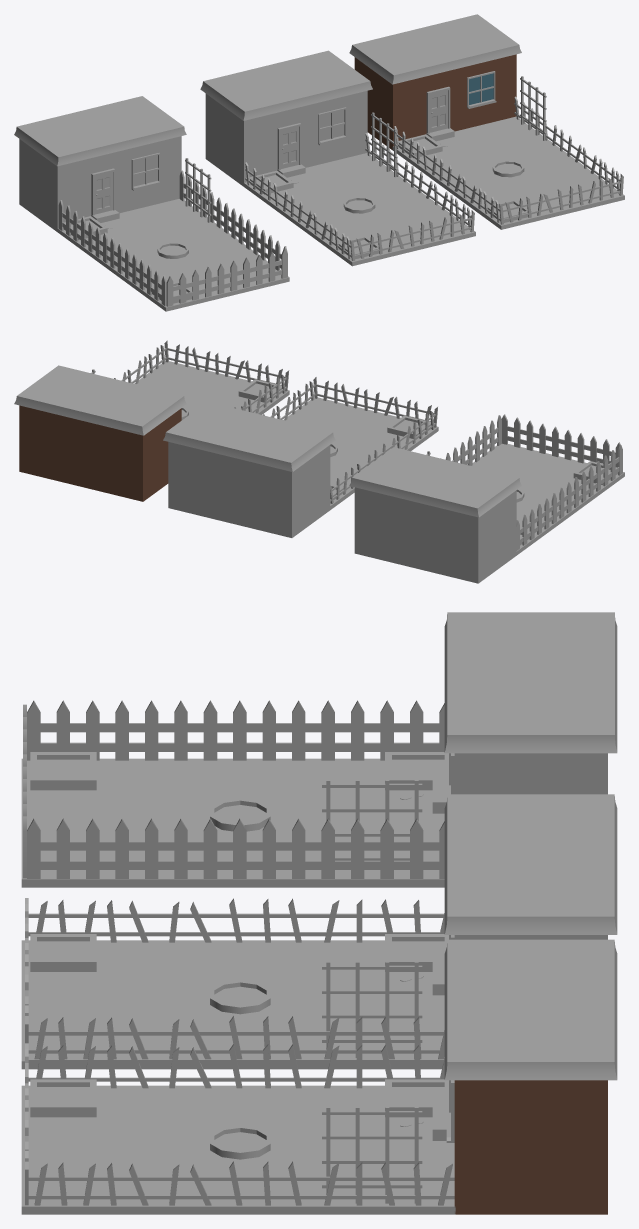
File: garden.fbx
3 views of the same model, one above another, from view 1: azimuth 30°, elevation 25°; view 2: azimuth 150°, elevation 25°; view 3: azimuth 270°, elevation 25° (orthographic). The views are drawn at different scales.
Visible parts, largest first — view 1: pasted__pasted__pCube1 (×3), pasted__pCube1 (×2), pasted__pasted__pasted__pCube1 (×2), pCube1, pasted__pasted__pasted__pasted__pCube1, pasted__pasted__pasted__pCube5, pasted__pasted__pCube5, pasted__pCube5, pasted__pasted__pCube8, pasted__pCube8, pasted__pasted__pCube2, pasted__pasted__pasted__pCube2 (+3 smaller); view 2: pasted__pasted__pCube1 (×3), pasted__pasted__pasted__pCube1 (×2), pasted__pCube1 (×2), pasted__pasted__pasted__pasted__pCube1, pCube1, pasted__pCube2, pasted__pasted__pCube2; view 3: pasted__pasted__pCube1 (×2), pasted__pCube1 (×2), pasted__pasted__pasted__pCube1 (×2), pCube1, pasted__pasted__pasted__pasted__pCube1, pasted__pasted__pasted__pasted__pasted__pCube4 (×3), pasted__pCube2 (×2), pasted__pasted__pCube2 (×2), pasted__pasted__pasted__pasted__pCube4 (×3), pasted__pCube4 (×2), pCube2, pCube4 (+9 smaller).
Boxes of the visible parts, box(x1,y1,x2,y2) form: pasted__pasted__pCube1 (×3): box(14, 90, 624, 229); pasted__pCube1 (×2): box(19, 136, 475, 266); pasted__pasted__pasted__pCube1 (×2): box(200, 50, 516, 149); pCube1: box(57, 198, 289, 311); pasted__pasted__pasted__pasted__pCube1: box(349, 14, 521, 84); pasted__pasted__pasted__pCube5: box(426, 86, 450, 133); pasted__pasted__pCube5: box(277, 123, 301, 169); pasted__pCube5: box(91, 168, 114, 215); pasted__pasted__pCube8: box(467, 71, 496, 108); pasted__pCube8: box(318, 107, 347, 145); pasted__pasted__pCube2: box(249, 170, 293, 194); pasted__pasted__pasted__pCube2: box(398, 134, 442, 157); pasted__pasted__pCube1 (×3): box(134, 361, 521, 537); pasted__pasted__pasted__pCube1 (×2): box(19, 401, 335, 501); pasted__pCube1 (×2): box(283, 397, 516, 583); pasted__pasted__pasted__pasted__pCube1: box(14, 365, 186, 435); pCube1: box(472, 443, 624, 555); pasted__pCube2: box(387, 415, 431, 439); pasted__pasted__pCube2: box(238, 379, 282, 403); pasted__pasted__pCube1 (×2): box(21, 612, 617, 1214); pasted__pCube1 (×2): box(21, 753, 607, 1069); pasted__pasted__pasted__pCube1 (×2): box(444, 794, 617, 1214); pCube1: box(21, 758, 444, 887); pasted__pasted__pasted__pasted__pCube1: box(444, 939, 617, 1080); pasted__pasted__pasted__pasted__pasted__pCube4 (×3): box(28, 1031, 454, 1199); pasted__pCube2 (×2): box(30, 752, 448, 971); pasted__pasted__pCube2 (×2): box(30, 934, 448, 1117); pasted__pasted__pasted__pasted__pCube4 (×3): box(28, 913, 444, 1081); pasted__pCube4 (×2): box(40, 742, 439, 850); pCube2: box(30, 752, 96, 790); pCube4: box(40, 723, 439, 732).
Size of the model in its own units: 2577 by 407 by 1430.
